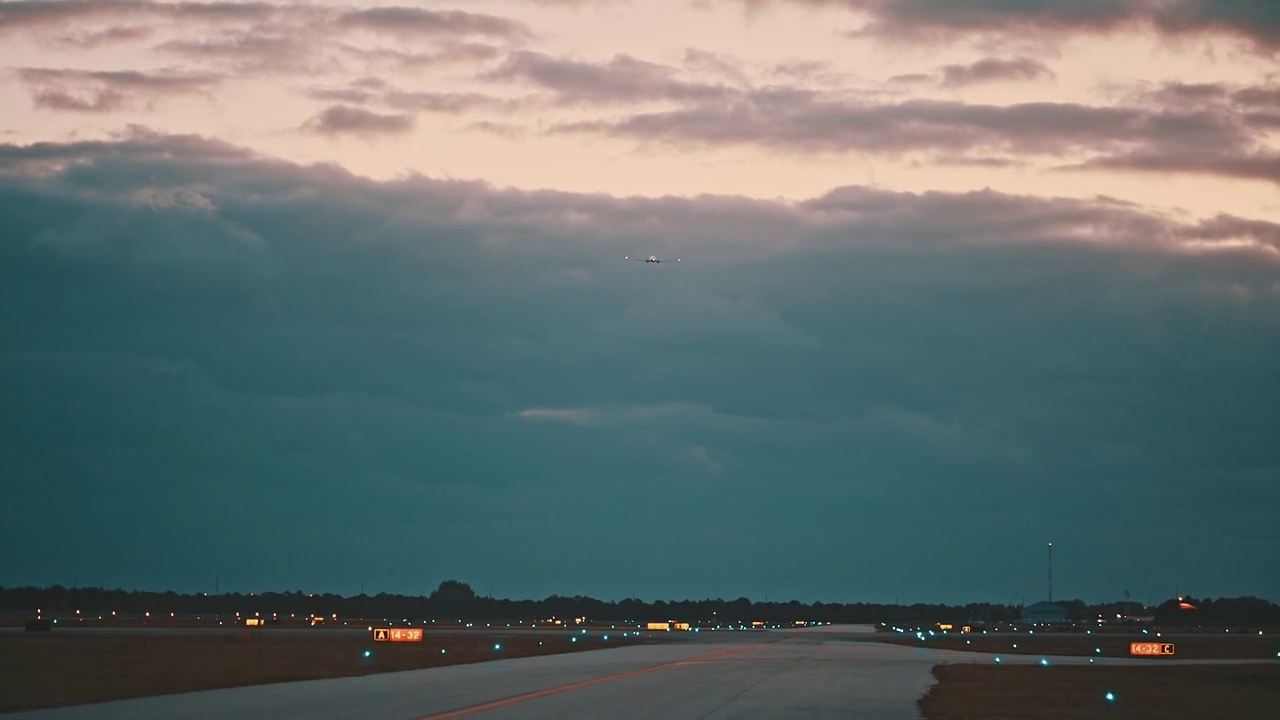plane: (625, 253, 680, 263)
